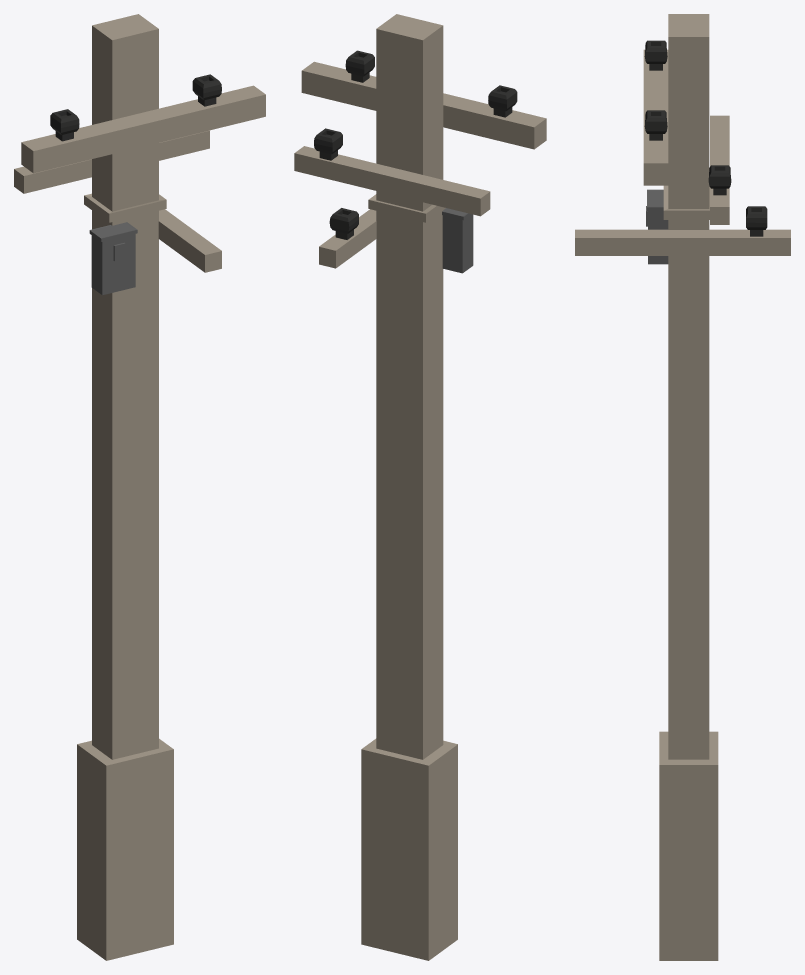
The model's file is Poste.glb.
3 views of the same model, side by side, from view 1: azimuth 30°, elevation 25°; view 2: azimuth 150°, elevation 25°; view 3: azimuth 270°, elevation 25° (orthographic).
Visible parts, largest first — view 1: Cube.052, Cube.064, Cube.021; view 2: Cube.052, Cube.021, Cube.064; view 3: Cube.052, Cube.021, Cube.064.
Boxes of the visible parts, left/top/right/bottom form: Cube.052: left=14, top=14, right=265, bottom=960; Cube.064: left=89, top=222, right=137, bottom=295; Cube.021: left=50, top=74, right=221, bottom=141; Cube.052: left=294, top=14, right=546, bottom=960; Cube.021: left=314, top=50, right=517, bottom=239; Cube.064: left=442, top=208, right=473, bottom=273; Cube.052: left=575, top=14, right=790, bottom=960; Cube.021: left=644, top=40, right=767, bottom=236; Cube.064: left=646, top=189, right=668, bottom=264.
Bounding box in the file's own units: 1.49 × 5.6 × 1.19.
